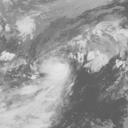cyclone: (26, 55, 75, 100)
